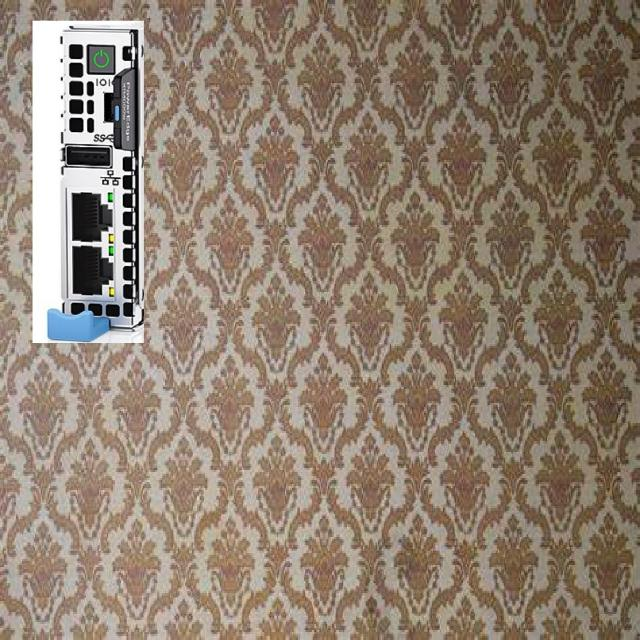Server: (33, 20, 144, 342)
